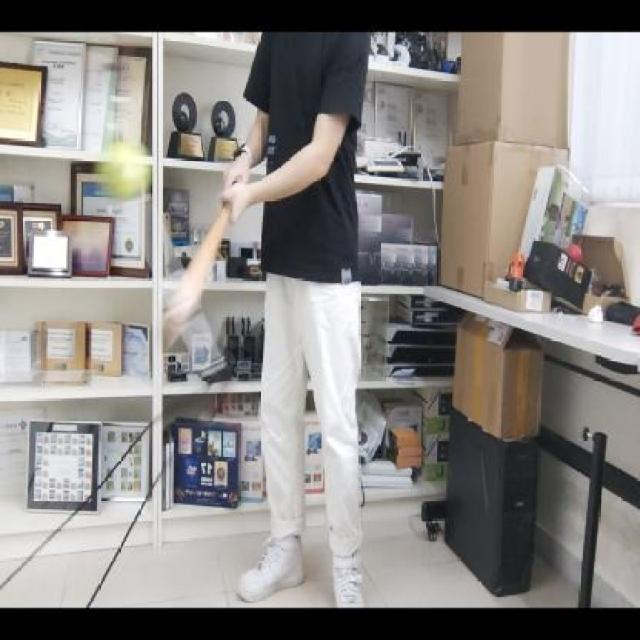baseball: (94, 136, 157, 201)
